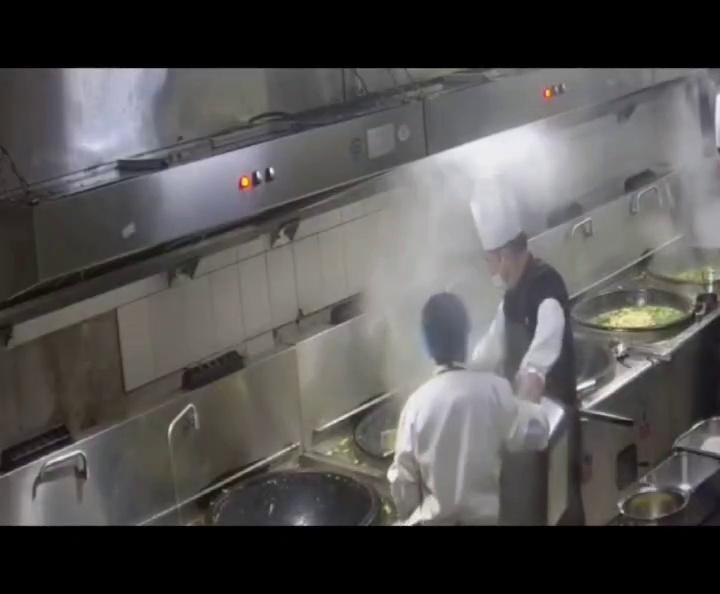gloves: (416, 287, 475, 365)
